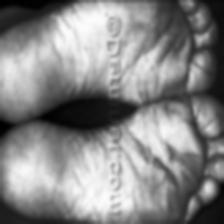Non-Cancerous Skin Condition: (131, 1, 210, 206)
